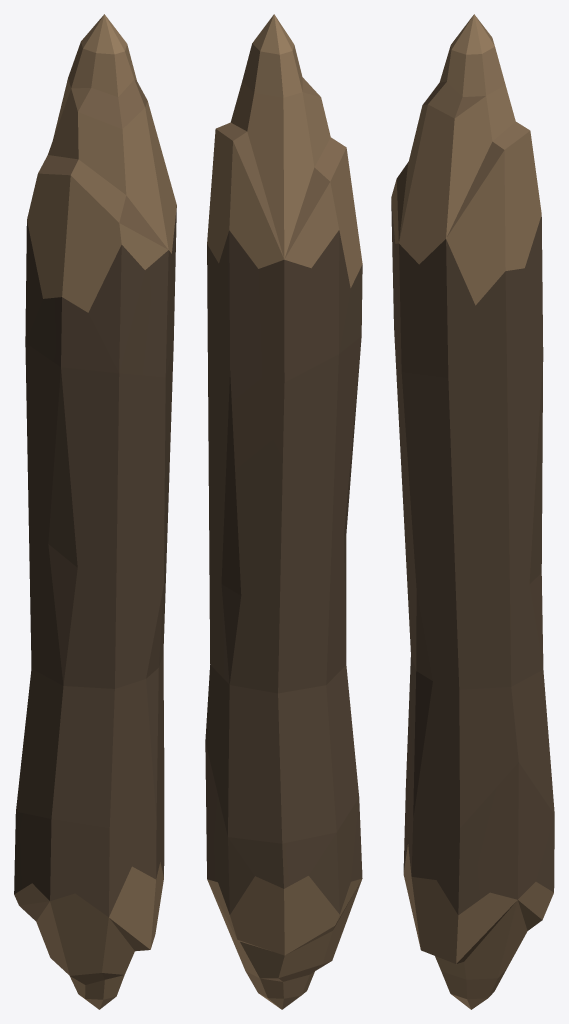
File: SM_Prop_Log_Spike_01.glb
3 views of the same model, side by side, from view 1: azimuth 30°, elevation 25°; view 2: azimuth 150°, elevation 25°; view 3: azimuth 270°, elevation 25° (orthographic).
Parts seen in each view (by area): view 1: SM_Prop_Log_Spike_01; view 2: SM_Prop_Log_Spike_01; view 3: SM_Prop_Log_Spike_01.
Part boxes in pixels (x1=…): SM_Prop_Log_Spike_01: x1=14, y1=14, x2=176, y2=1009; SM_Prop_Log_Spike_01: x1=205, y1=14, x2=362, y2=1009; SM_Prop_Log_Spike_01: x1=391, y1=14, x2=554, y2=1009.
Bounding box in the file's own units: 0.00443 × 0.0309 × 0.00458.
Materials: 1 (1 with a texture image).
